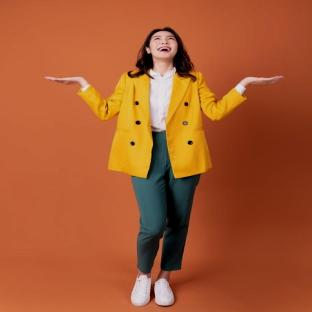Human: (46, 27, 283, 306)
